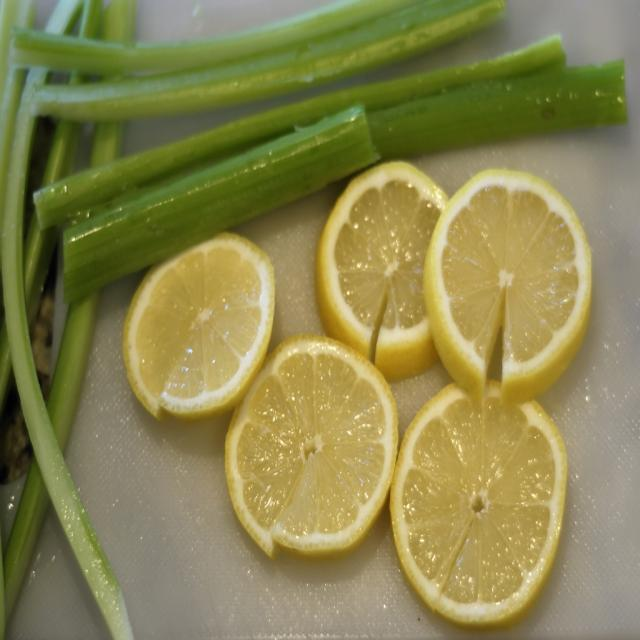Lemon: (122, 154, 594, 628), (388, 378, 566, 636), (422, 157, 597, 406), (225, 332, 402, 562), (122, 226, 277, 423), (314, 156, 445, 382)
